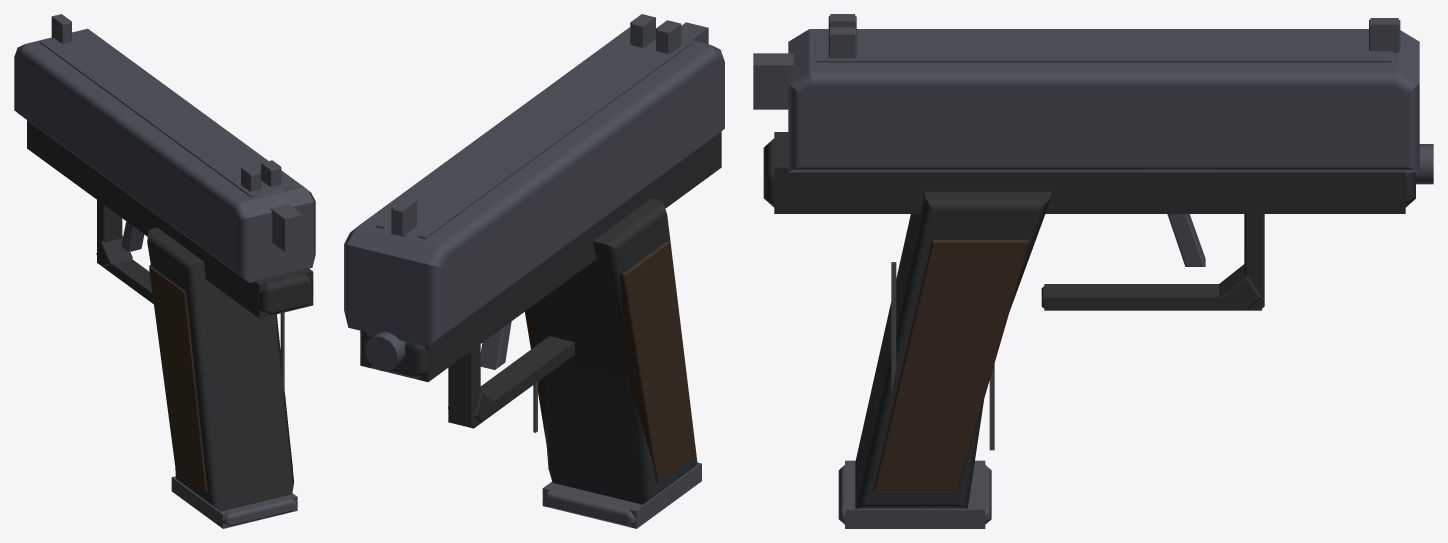
File: pistol.glb
The picture shows the model from 3 angles, left to right: view 1: azimuth 30°, elevation 25°; view 2: azimuth 150°, elevation 25°; view 3: azimuth 270°, elevation 25°; orthographic projection. The views are drawn at different scales.
Parts seen in each view (by area): view 1: L0, L1; view 2: L0, L1; view 3: L0, L1.
Boxes of the visible parts, <box> form: L0: <box>14,14,315,527</box>; L1: <box>27,14,313,528</box>; L0: <box>344,14,724,526</box>; L1: <box>360,14,721,528</box>; L0: <box>753,15,1433,524</box>; L1: <box>774,14,1433,528</box>.
Size of the model in its own units: 0.0396 by 0.152 by 0.194.
